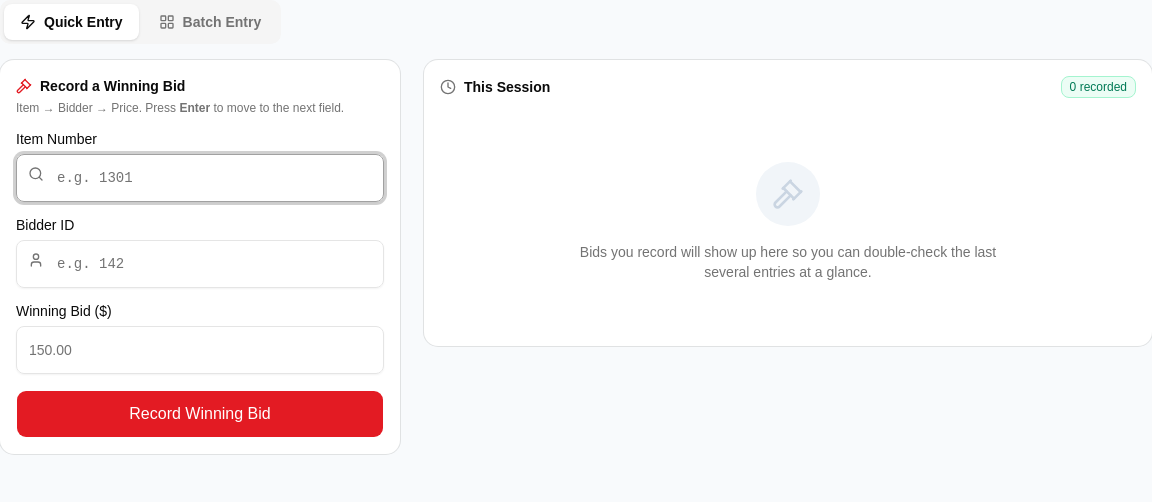
Test case: BidEntry › shows a Repeatable badge for an item flagged with allowMultipleWinners, even though it already has a winner
The image size is (1152, 502).
Step 1. Type "1502" into the field with placeholder "e.g. 1301" → [200, 178], box [16, 154, 384, 202]
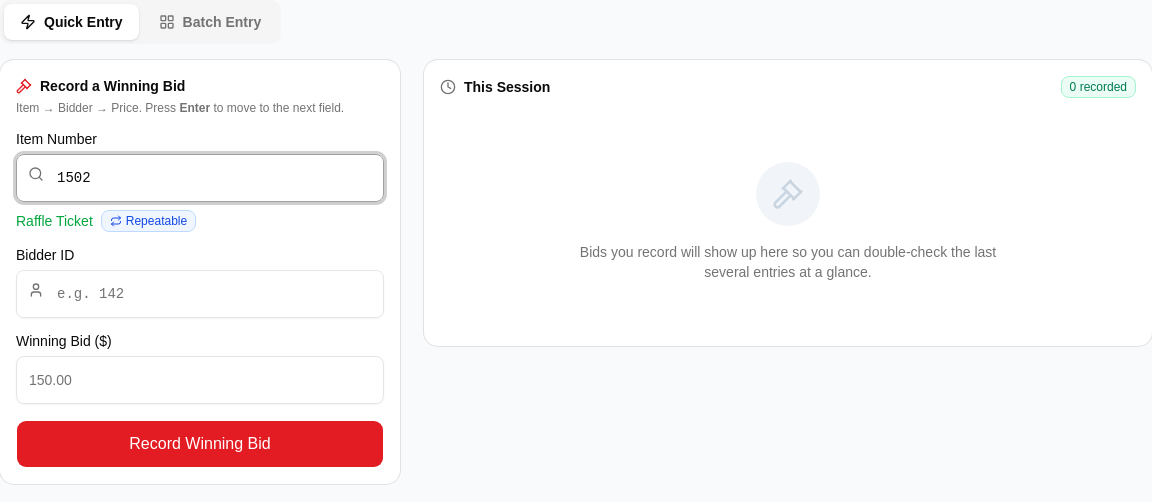
Expected: the text "Raffle Ticket" is shown, [16, 213, 93, 229]
Expected: the text "Repeatable" is shown, [101, 210, 196, 232]
